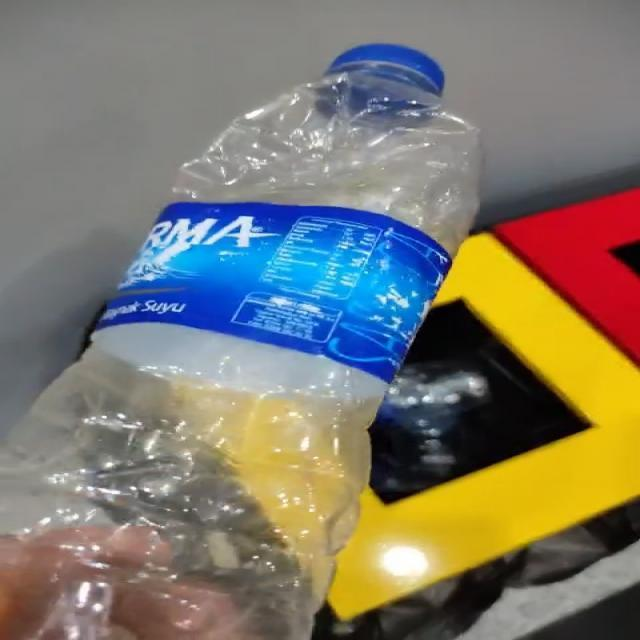Plastic: (3, 44, 481, 640)
